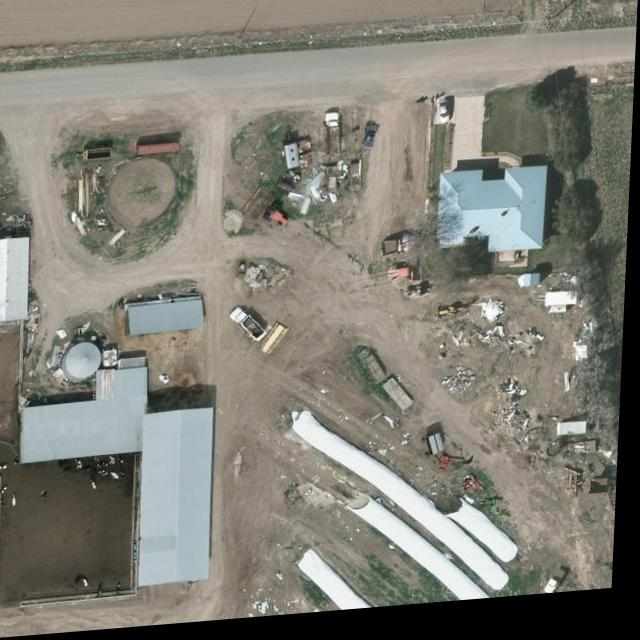vehicle: (227, 308, 273, 351), (352, 351, 398, 393), (324, 116, 344, 163), (548, 576, 573, 603), (439, 106, 454, 134), (364, 129, 379, 156)
